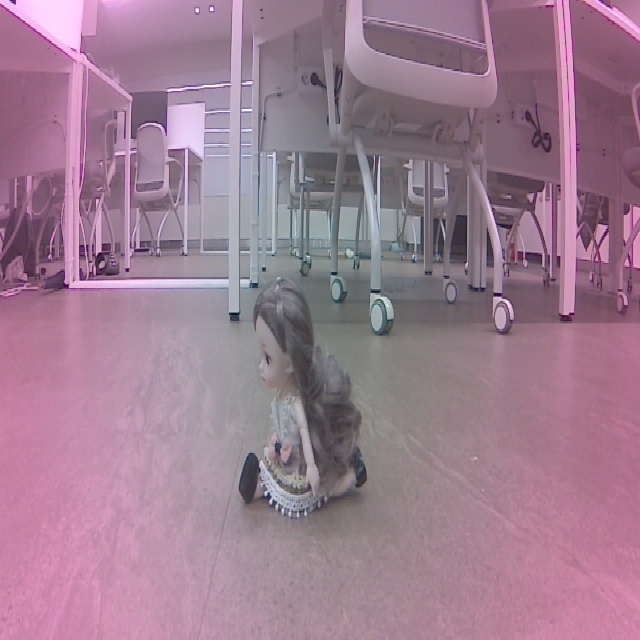장애물: (233, 275, 370, 517)
